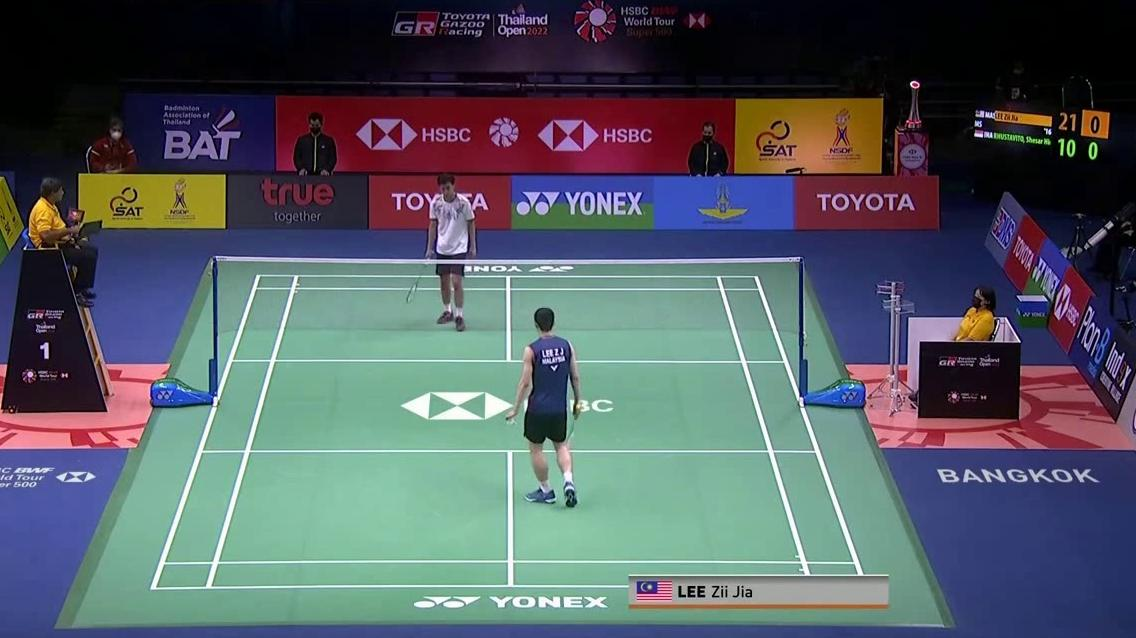racket: (406, 250, 434, 303), (564, 403, 580, 450)
shuttle: (504, 417, 517, 426)
